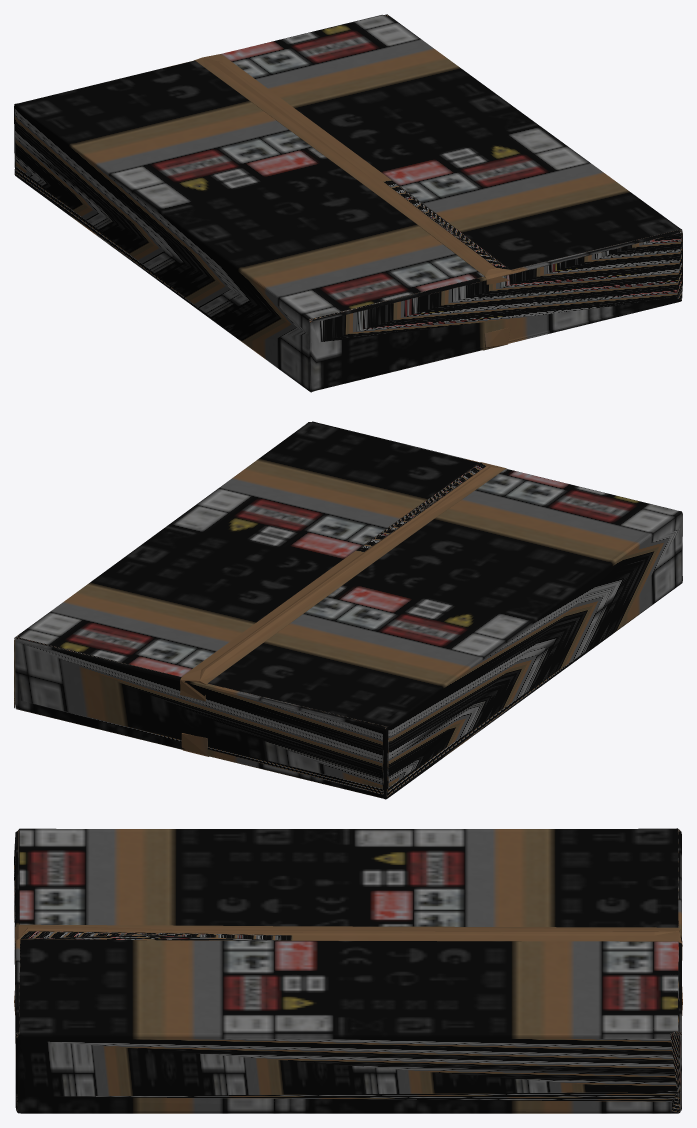
The model's file is box_flat_white_b14.glb.
3 views of the same model, one above another, from view 1: azimuth 30°, elevation 25°; view 2: azimuth 150°, elevation 25°; view 3: azimuth 270°, elevation 25° (orthographic). The views are drawn at different scales.
Visible parts, largest first — view 1: geometry_0; view 2: geometry_0; view 3: geometry_0.
Part boxes in pixels (left/top/right/bottom): geometry_0: left=14, top=14, right=682, bottom=392; geometry_0: left=14, top=421, right=682, bottom=799; geometry_0: left=14, top=828, right=682, bottom=1113.
Bounding box in the file's own units: 0.3043 × 0.0589 × 0.42.
Materials: 1 (1 with a texture image).
